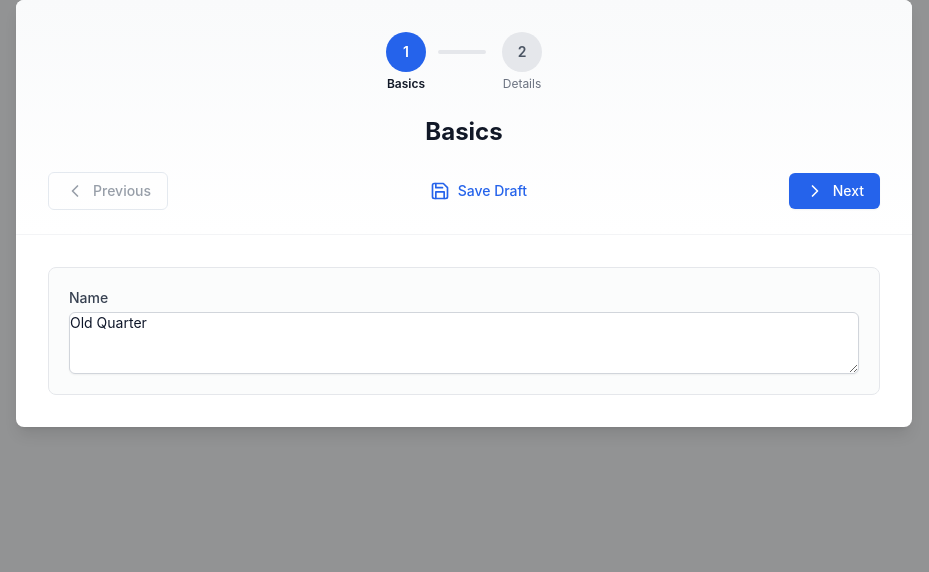
Test: FormWizard validation result log (KNG-269) › a result that was really run offers the plain re-run and no age
Expected: the text box showing "Old Quarter" is shown, x1=69 y1=312 x2=859 y2=374
Step 1. Click the button "Next" → x=834, y=191, box x1=789 y1=173 x2=880 y2=209
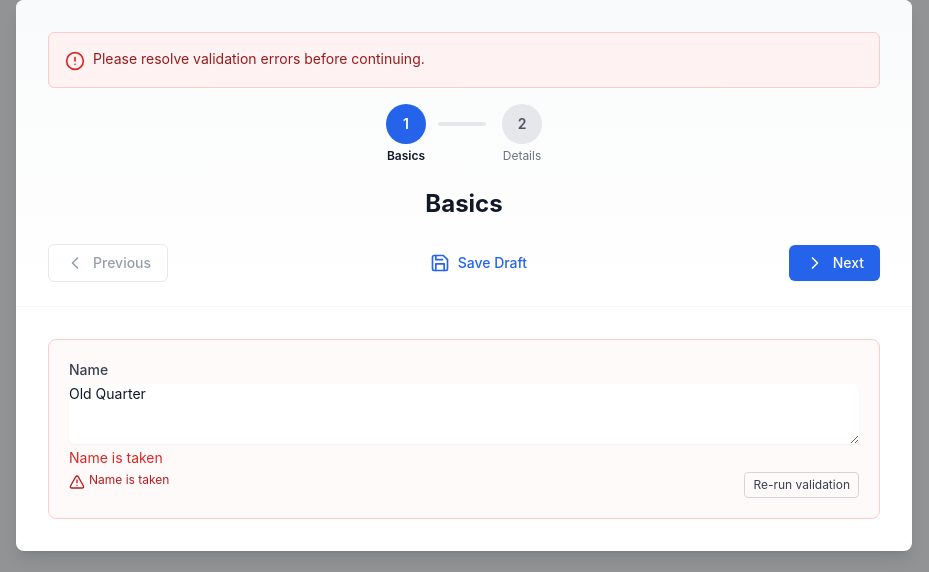
Result: the button "Re-run validation" is shown at x1=744 y1=472 x2=859 y2=498
